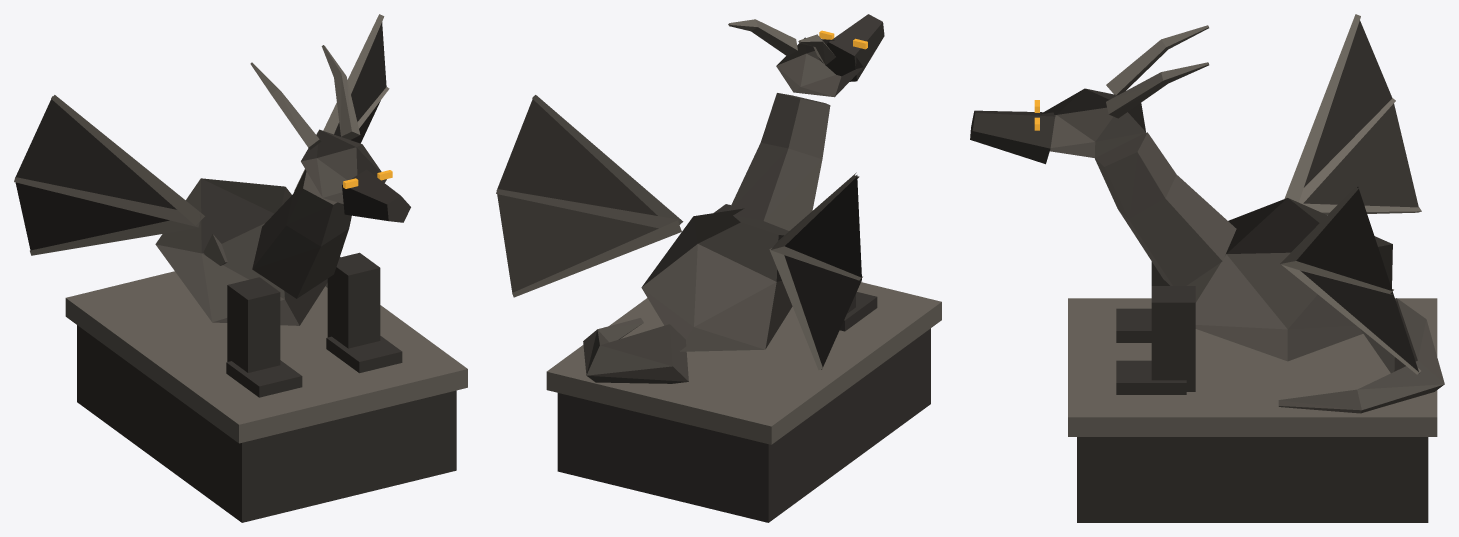
Rendered from dk_stonedragon.glb.
3 views of the same model, side by side, from view 1: azimuth 30°, elevation 25°; view 2: azimuth 150°, elevation 25°; view 3: azimuth 270°, elevation 25° (orthographic). The views are drawn at different scales.
Visible parts, largest first — view 1: dk_stonedragon; view 2: dk_stonedragon; view 3: dk_stonedragon.
Boxes of the visible parts, <box> form: dk_stonedragon: <box>14,14,467,522</box>; dk_stonedragon: <box>496,14,941,522</box>; dk_stonedragon: <box>970,14,1444,522</box>.
Size of the model in its own units: 5.24 by 5.32 by 5.4.
2 materials, 2 textured.
